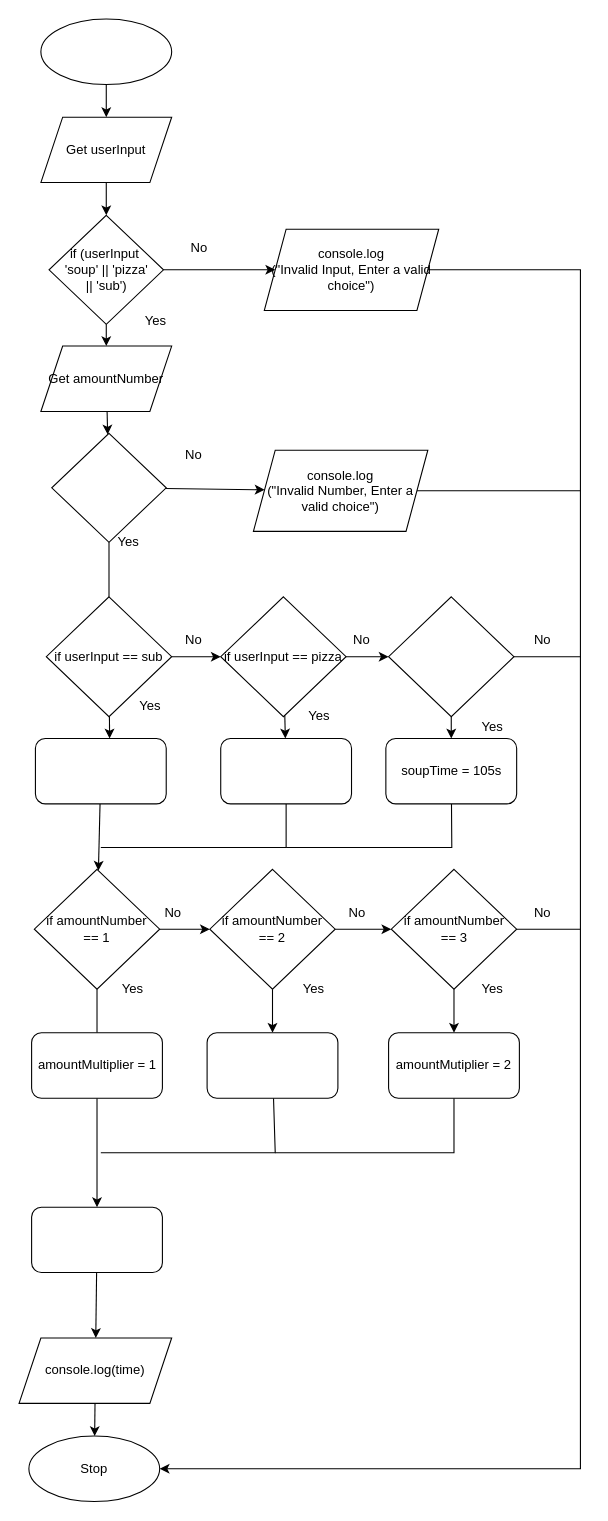
The diagram is 608 pixels wide and 1521 high, and some of its shapes have lost their labels. Here are the shapes that lost their labels. From the top down, the centre of each, then its label:
At [106,51]: "Start".
At [108,487]: "if ( amountNumber == '1' || '2' || '3')".
At [450,656]: "if userInput == soup".
At [100,770]: "subTime = 60s".
At [286,770]: "pizzaTime = 45s".
At [272,1065]: "amountMutiplier = 1.5".
At [96,1239]: "time = subTime || pizzaTime || soupTime * amountMultiplier".
